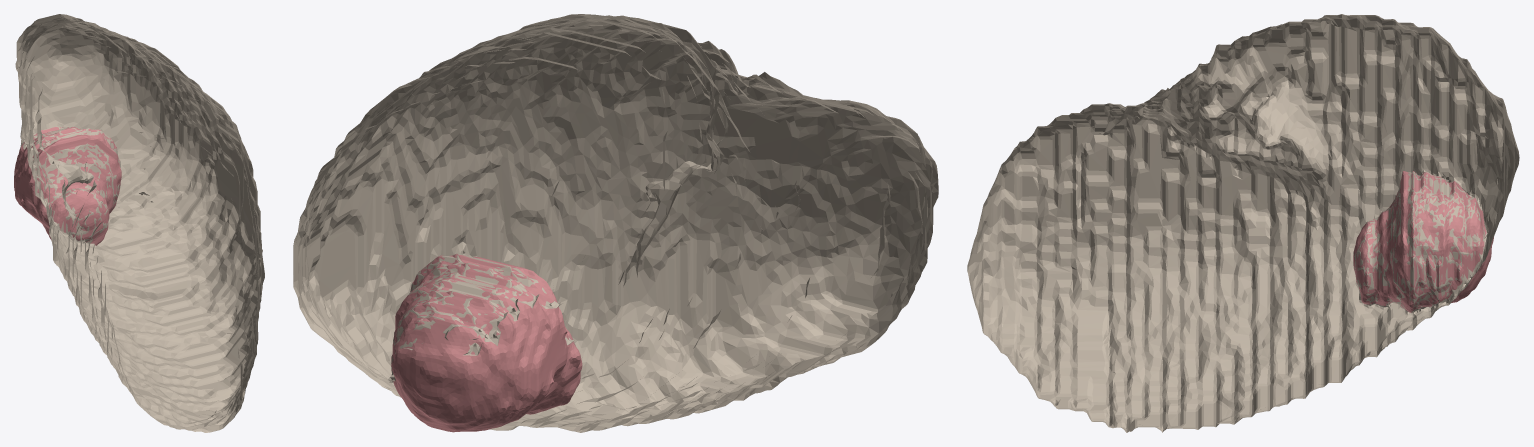
File: reference-a.glb
3 views of the same model, side by side, from view 1: azimuth 30°, elevation 25°; view 2: azimuth 150°, elevation 25°; view 3: azimuth 270°, elevation 25° (orthographic). The views are drawn at different scales.
Visible parts, largest first — view 1: parenchyma, tumour; view 2: parenchyma, tumour; view 3: parenchyma, tumour.
Boxes of the visible parts, x1,y1,x2,y2 form: parenchyma: (15,14,264,432); tumour: (14,127,121,245); parenchyma: (293,14,938,432); tumour: (391,254,582,432); parenchyma: (967,14,1519,432); tumour: (1353,171,1493,312).
Bounding box in the file's own units: 65.45 × 80.8 × 108.
